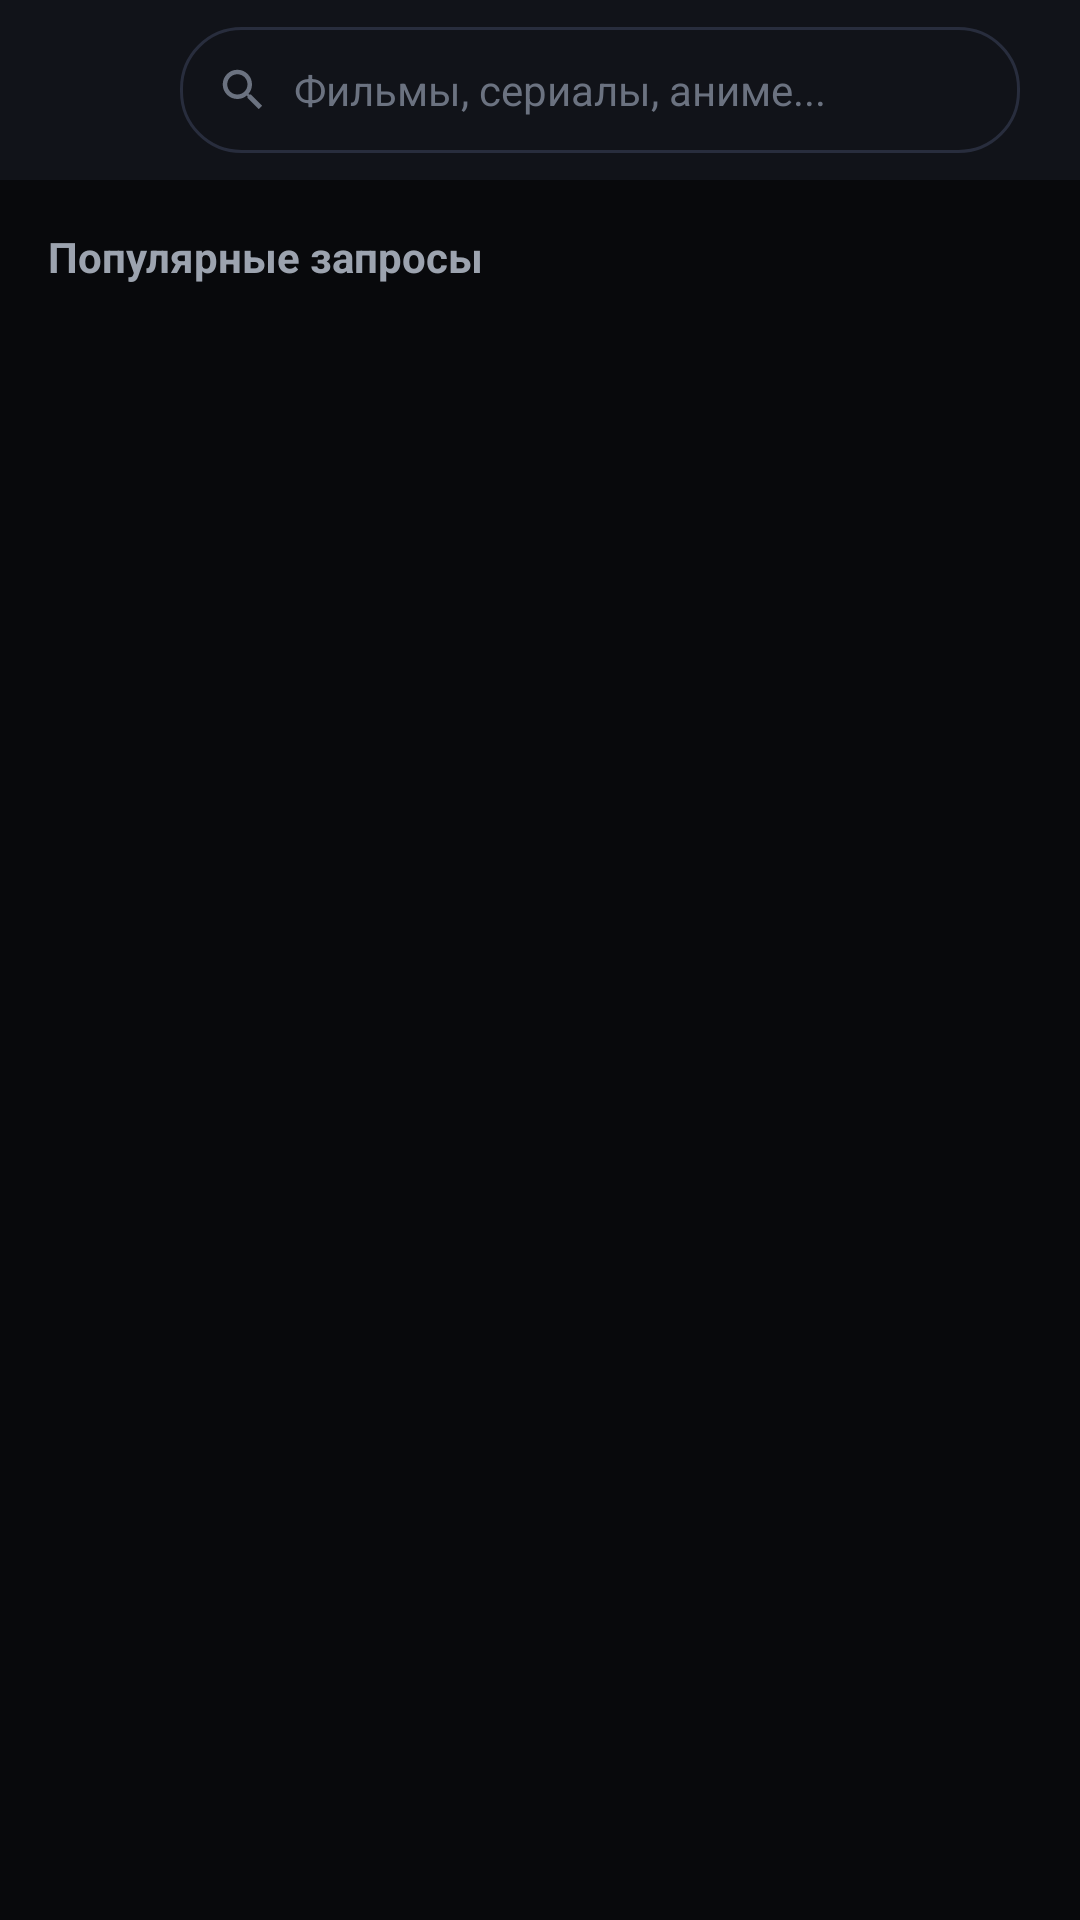

Point at icon controls on the screen. Image size 1080w x 1920h, points as [x,y].
search: [242,89]
